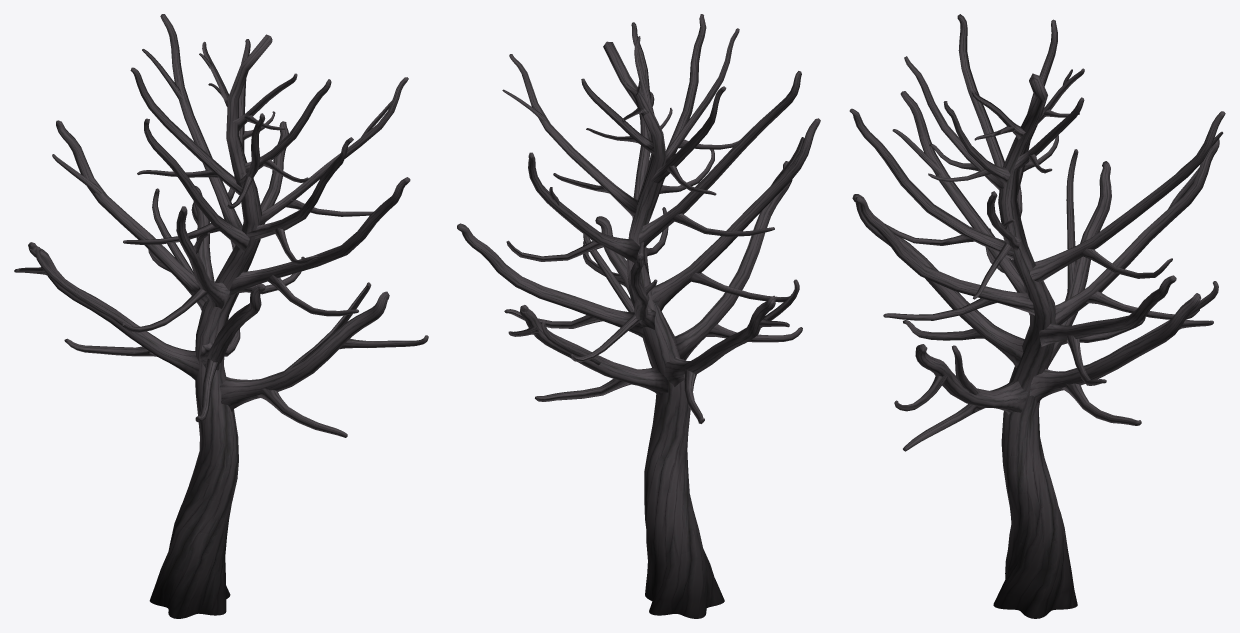
File: deadtree_1.glb
The picture shows the model from 3 angles, left to right: view 1: azimuth 30°, elevation 25°; view 2: azimuth 150°, elevation 25°; view 3: azimuth 270°, elevation 25°; orthographic projection. The views are drawn at different scales.
Parts seen in each view (by area): view 1: DeadTree_1; view 2: DeadTree_1; view 3: DeadTree_1.
Boxes of the visible parts, box(x1,y1,x2,y2) form: DeadTree_1: box(14, 14, 428, 618); DeadTree_1: box(457, 14, 820, 618); DeadTree_1: box(849, 14, 1225, 618).
Size of the model in its own units: 6.15 by 9.5 by 5.75.
Materials: 1 (1 with a texture image).
